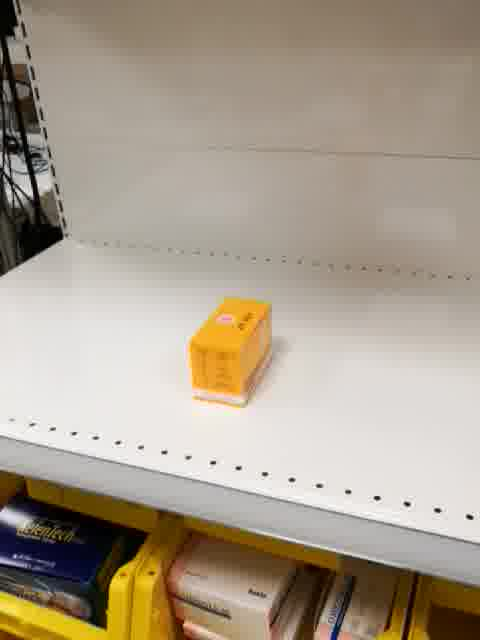jasminetea: (187, 297, 272, 408)
